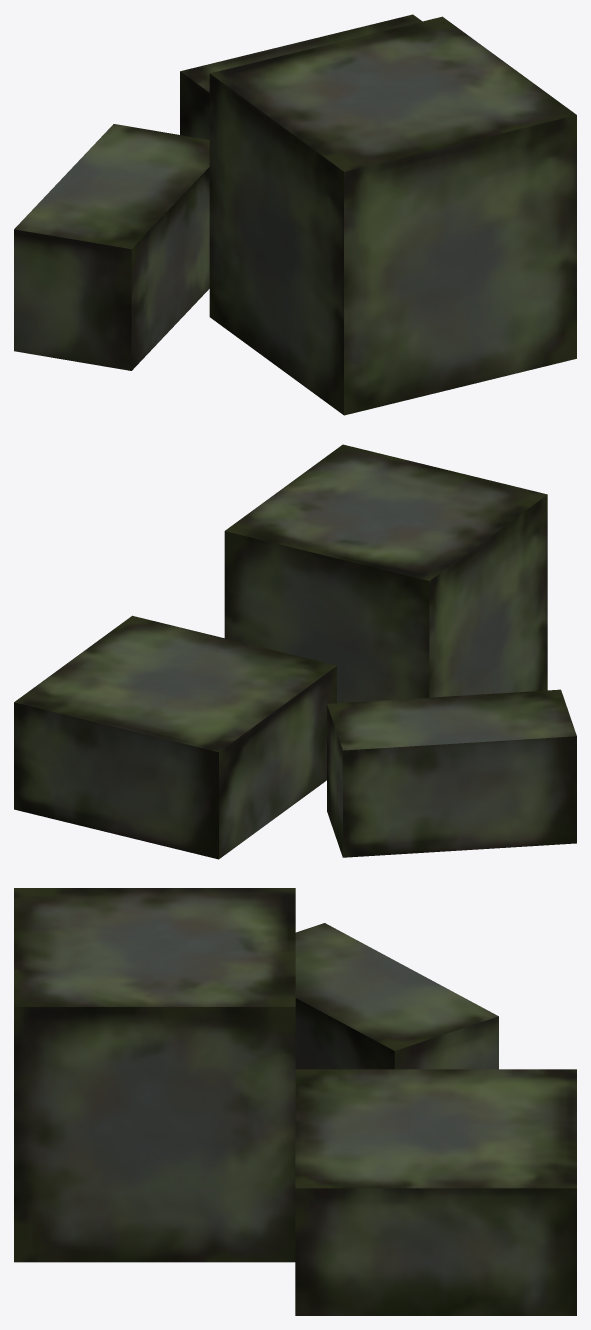
Rendered from rubble-03.fbx.
The picture shows the model from 3 angles, top to bottom: view 1: azimuth 30°, elevation 25°; view 2: azimuth 150°, elevation 25°; view 3: azimuth 270°, elevation 25°; orthographic projection. The views are drawn at different scales.
Parts seen in each view (by area): view 1: rubble_3; view 2: rubble_3; view 3: rubble_3.
Boxes of the visible parts, box(x1,y1,x2,y2) form: rubble_3: box(14, 14, 576, 415); rubble_3: box(14, 444, 576, 859); rubble_3: box(14, 888, 576, 1315).
Bounding box in the file's own units: 223 × 100 × 200.
